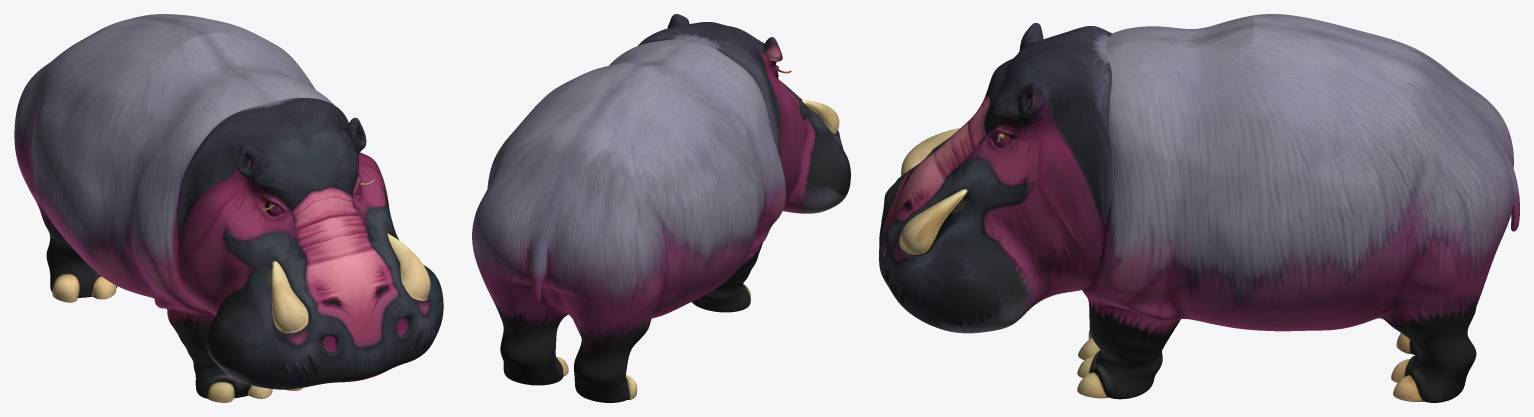
File: RiverHippo.glb
The picture shows the model from 3 angles, left to right: view 1: azimuth 30°, elevation 25°; view 2: azimuth 150°, elevation 25°; view 3: azimuth 270°, elevation 25°; orthographic projection. The views are drawn at different scales.
Bounding box in the file's own units: 1.01 × 1.12 × 1.9.
Materials: 1 (1 with a texture image).
